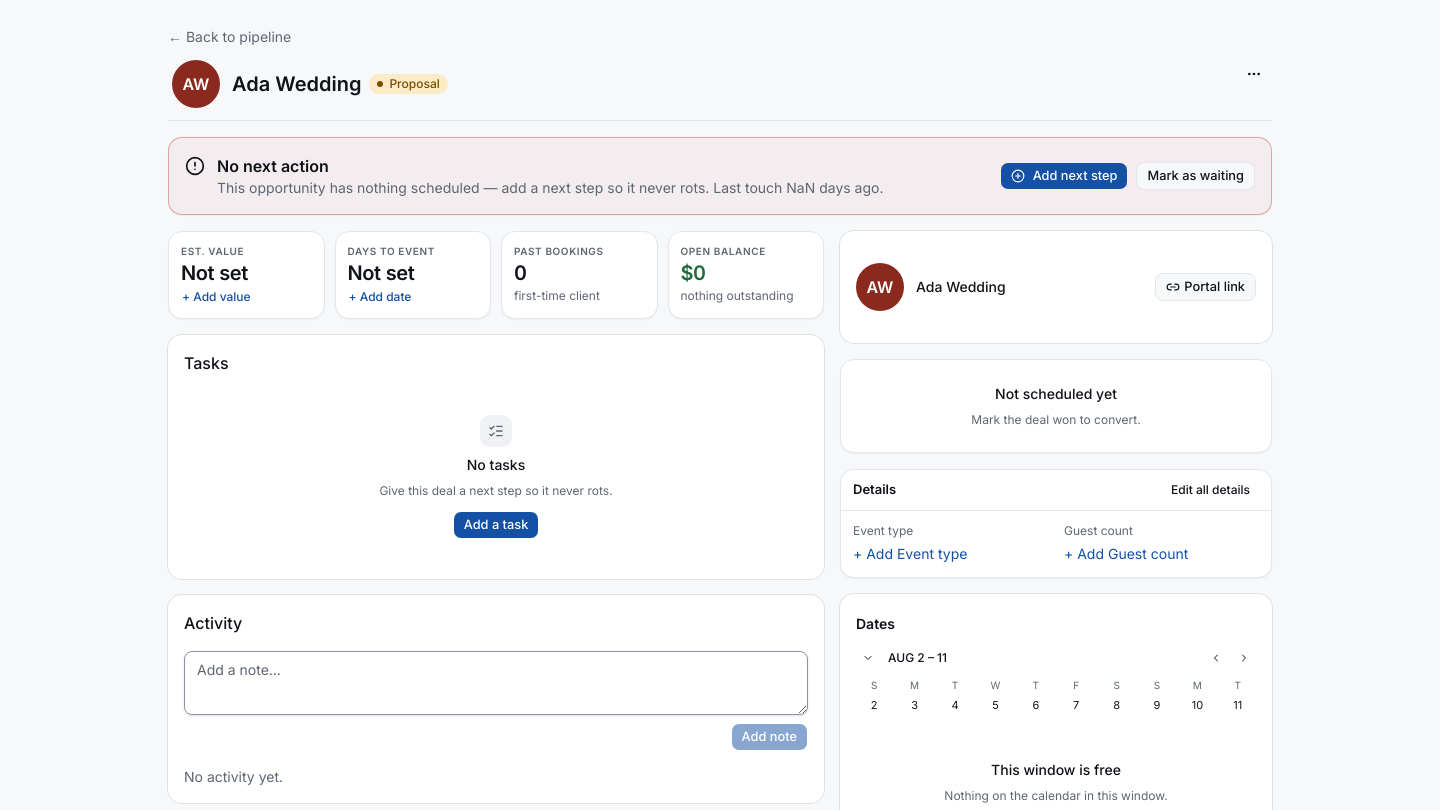
Test: OpportunityDetailClient › offers + Add affordances instead of dashes when value and date are unset
Click the button "+ Add value" at (216, 297), box [181, 288, 252, 306]
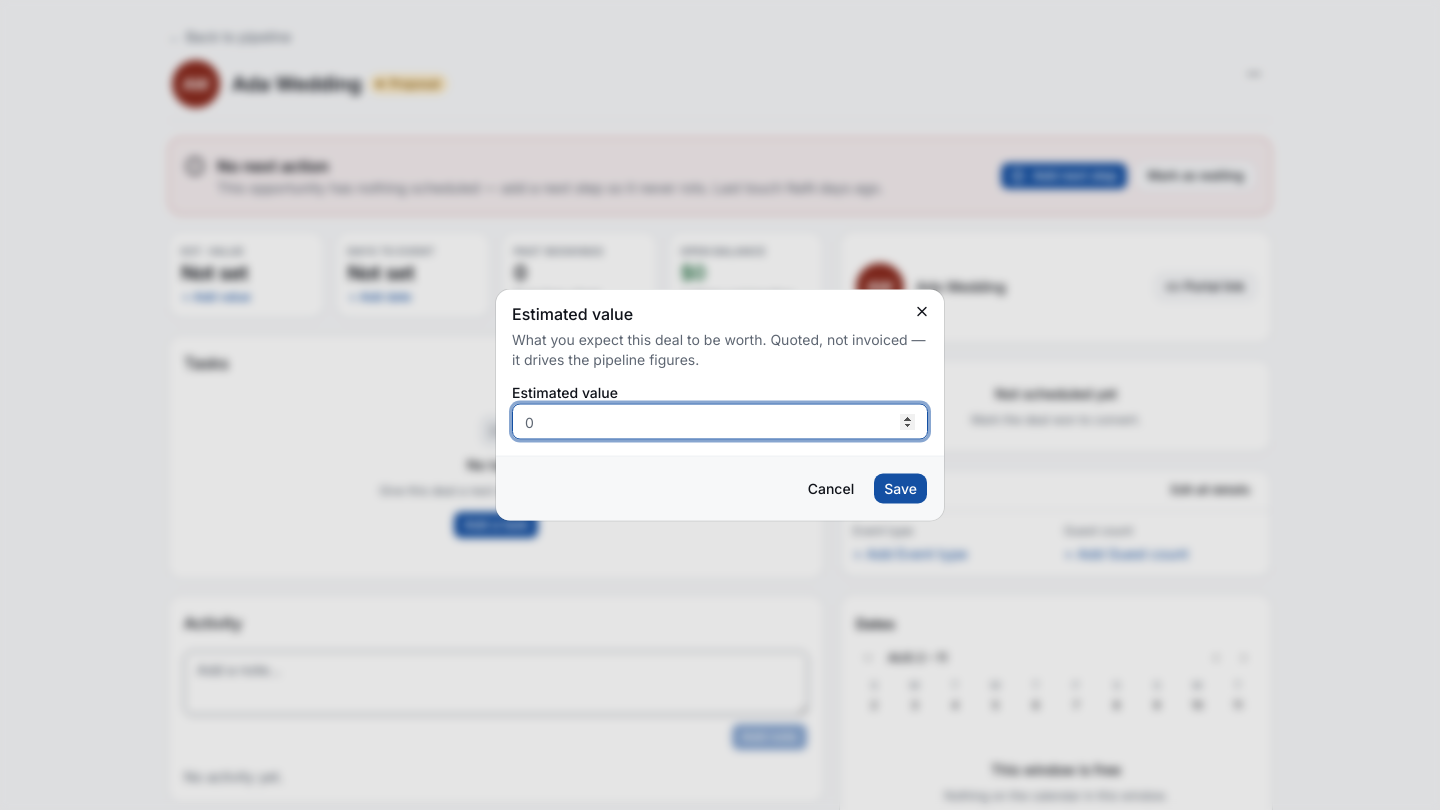
expect the dialog "Estimated value" is shown: met, box [496, 290, 944, 520]
